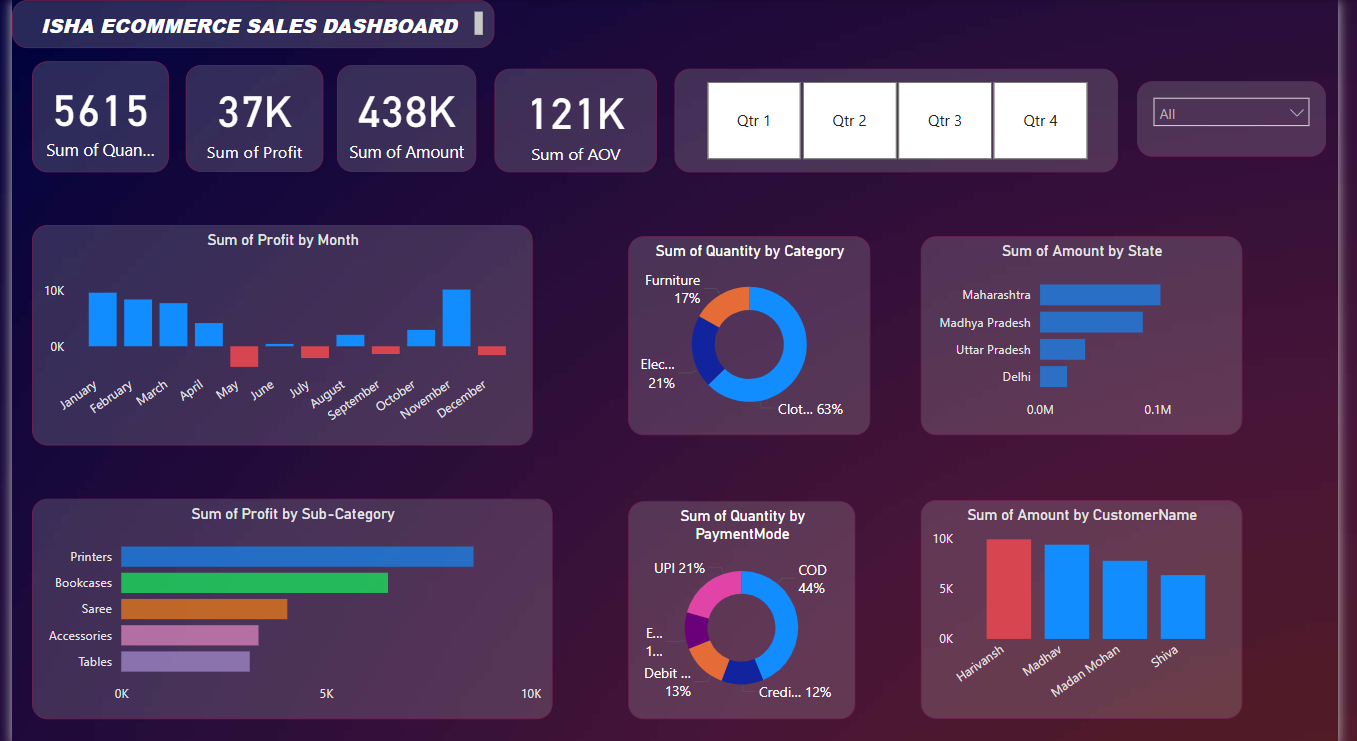

The page's visual inventory and layout, read from the dashboard file:
{"tool":"powerbi","page":{"name":"Page 1","canvas":[1280,720],"ordinal":0},"visuals":[{"type":"textbox","box":[0,0,465.5,46.4],"z":0},{"type":"columnChart","fields":{"Category":["Orders.Order Date.Variation.Date Hierarchy.Month"],"Y":["Details (1).Profit"]},"box":[19.2,216.8,483,212.7],"z":1000},{"type":"barChart","fields":{"Category":["Details (1).Sub-Category"],"Y":["Details (1).Profit"]},"box":[19,481,502.4,213.1],"z":2000},{"type":"donutChart","fields":{"Category":["Details (1).Category"],"Y":["Details (1).Quantity"]},"box":[595.2,228.6,233.3,191.7],"z":3000},{"type":"donutChart","fields":{"Y":["Details (1).Quantity"],"Series":["Details (1).PaymentMode"]},"box":[595.2,483.3,219,210.7],"z":4000},{"type":"card","fields":{"Values":["Details (1).Amount"]},"box":[314.2,63.1,134.5,102.9],"z":5000},{"type":"card","fields":{"Values":["Details (1).Quantity"]},"box":[19.2,59,131.7,107],"z":6000},{"type":"card","fields":{"Values":["Details (1).Profit"]},"box":[167.4,63.1,133.1,102.9],"z":7000},{"type":"card","fields":{"Values":["Details (1).AOV"]},"box":[465.2,65.9,156.4,100.2],"z":8000},{"type":"barChart","fields":{"Y":["Details (1).Amount"],"Category":["Orders.State"]},"box":[876.8,227.8,310.1,192.1],"z":9000},{"type":"columnChart","fields":{"Category":["Orders.CustomerName"],"Y":["Details (1).Amount"]},"box":[877,483,310,211],"z":10000},{"type":"slicer","fields":{"Values":["Orders.Order Date.Variation.Date Hierarchy.Quarter"]},"box":[639.5,65.9,428.1,100.2],"z":11000},{"type":"slicer","fields":{"Values":["Orders.State"]},"box":[1085.4,78.2,182.5,72.7],"z":12000}]}

Visuals, with their boxes on the page's 1280x720 design canvas (x1, y1, x2, y2). These are canvas units, not pixel positions in the 1357x741 screenshot, which may show the page scaled, cropped or inside an application window:
textbox: x1=0 y1=0 x2=466 y2=46
columnChart - Orders.Order Date.Variation.Date Hierarchy.Month x Details (1).Profit: x1=19 y1=217 x2=502 y2=430
barChart - Details (1).Sub-Category x Details (1).Profit: x1=19 y1=481 x2=521 y2=694
donutChart - Details (1).Category x Details (1).Quantity: x1=595 y1=229 x2=828 y2=420
donutChart - Details (1).Quantity x Details (1).PaymentMode: x1=595 y1=483 x2=814 y2=694
card - Details (1).Amount: x1=314 y1=63 x2=449 y2=166
card - Details (1).Quantity: x1=19 y1=59 x2=151 y2=166
card - Details (1).Profit: x1=167 y1=63 x2=300 y2=166
card - Details (1).AOV: x1=465 y1=66 x2=622 y2=166
barChart - Details (1).Amount x Orders.State: x1=877 y1=228 x2=1187 y2=420
columnChart - Orders.CustomerName x Details (1).Amount: x1=877 y1=483 x2=1187 y2=694
slicer - Orders.Order Date.Variation.Date Hierarchy.Quarter: x1=640 y1=66 x2=1068 y2=166
slicer - Orders.State: x1=1085 y1=78 x2=1268 y2=151
